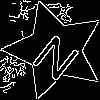N: (30, 25, 89, 84)
